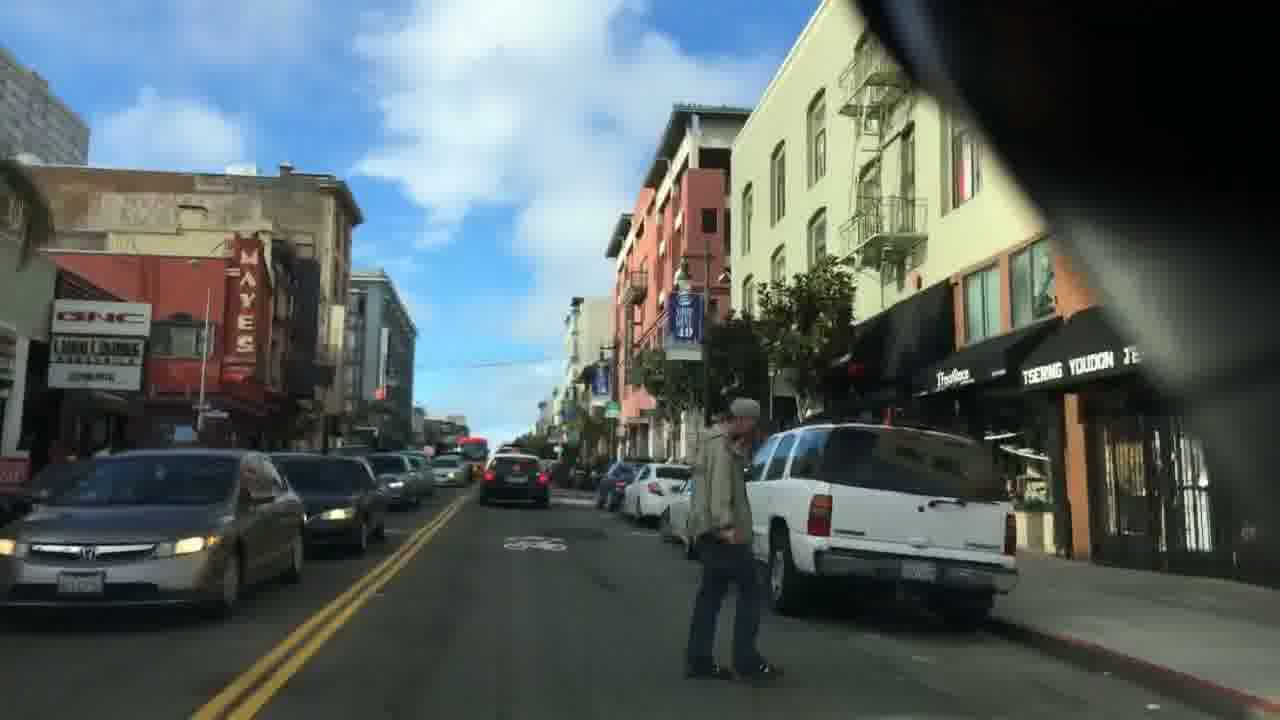car: (742, 418, 1024, 629), (0, 446, 307, 623), (260, 450, 385, 556), (614, 461, 694, 524), (478, 447, 551, 506), (430, 454, 469, 488)
pedestrian: (681, 395, 786, 689)
